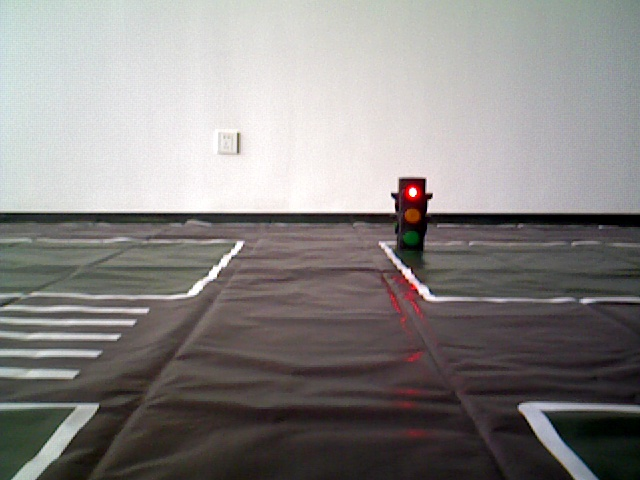red: (398, 178, 425, 251)
